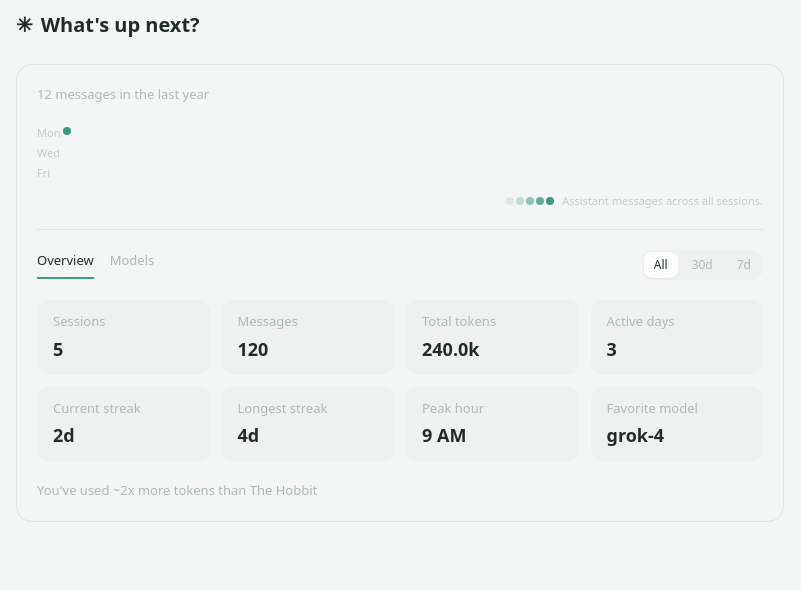
Scenario: HomeDashboard › switches to the Models tab and shows per-model usage
Expected: the text "Sessions" is shown, [53, 312, 105, 330]
Click the tab "Models" at (132, 265), box [110, 251, 154, 279]
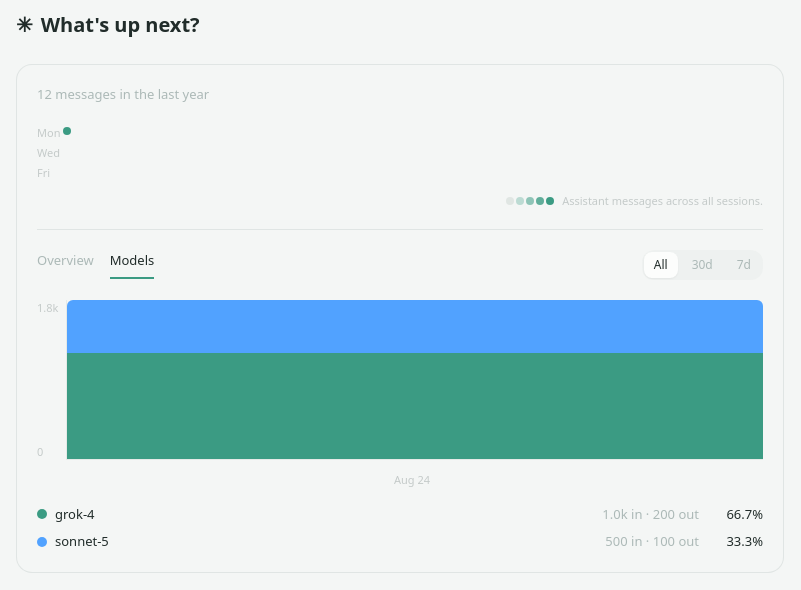
Result: the text "sonnet-5" is shown at [55, 532, 109, 552]
